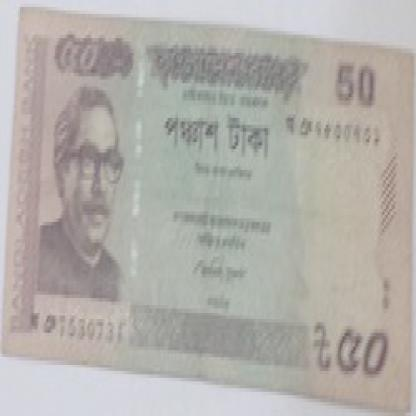Fifty taka: (53, 28, 110, 86), (334, 330, 392, 382)
